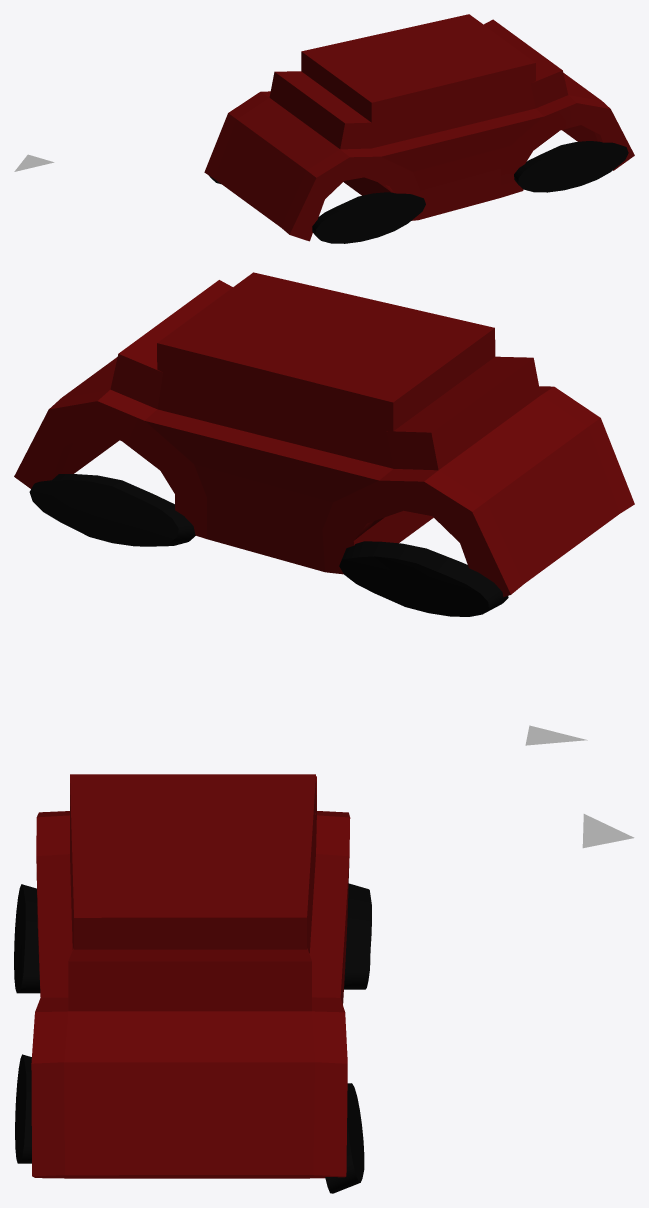
The model's file is pedro_car.glb.
3 renders of one model, top to bottom at view 1: azimuth 30°, elevation 25°; view 2: azimuth 150°, elevation 25°; view 3: azimuth 270°, elevation 25°, orthographic. The views are drawn at different scales.
Parts seen in each view (by area): view 1: polySurface8, pCylinder3, pCylinder4; view 2: polySurface8, pCylinder1, pCylinder2, polySurface1; view 3: polySurface8, pCylinder1, pCylinder4, pCylinder2, pCylinder3, polySurface1.
Part boxes in pixels (x1,y1,x2,y2): polySurface8: [204, 14, 634, 241]; pCylinder3: [514, 141, 628, 192]; pCylinder4: [312, 192, 425, 243]; polySurface8: [14, 272, 634, 597]; pCylinder1: [339, 541, 508, 616]; pCylinder2: [29, 474, 195, 546]; polySurface1: [525, 725, 587, 745]; polySurface8: [31, 774, 350, 1178]; pCylinder1: [344, 883, 371, 989]; pCylinder4: [14, 884, 40, 993]; pCylinder2: [325, 1083, 364, 1193]; pCylinder3: [15, 1054, 31, 1163]; polySurface1: [582, 814, 634, 848].
Size of the model in its own units: 0.3097 by 0.0867 by 0.2045.
